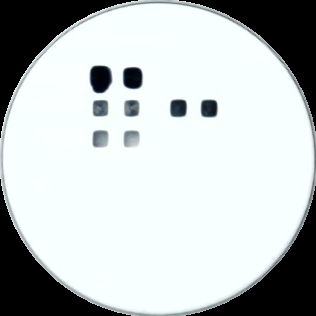检查点: (90, 65, 114, 95), (123, 67, 144, 90), (200, 99, 219, 118), (170, 100, 188, 118), (123, 130, 141, 148), (93, 130, 110, 148), (123, 100, 140, 117), (92, 99, 108, 117)
